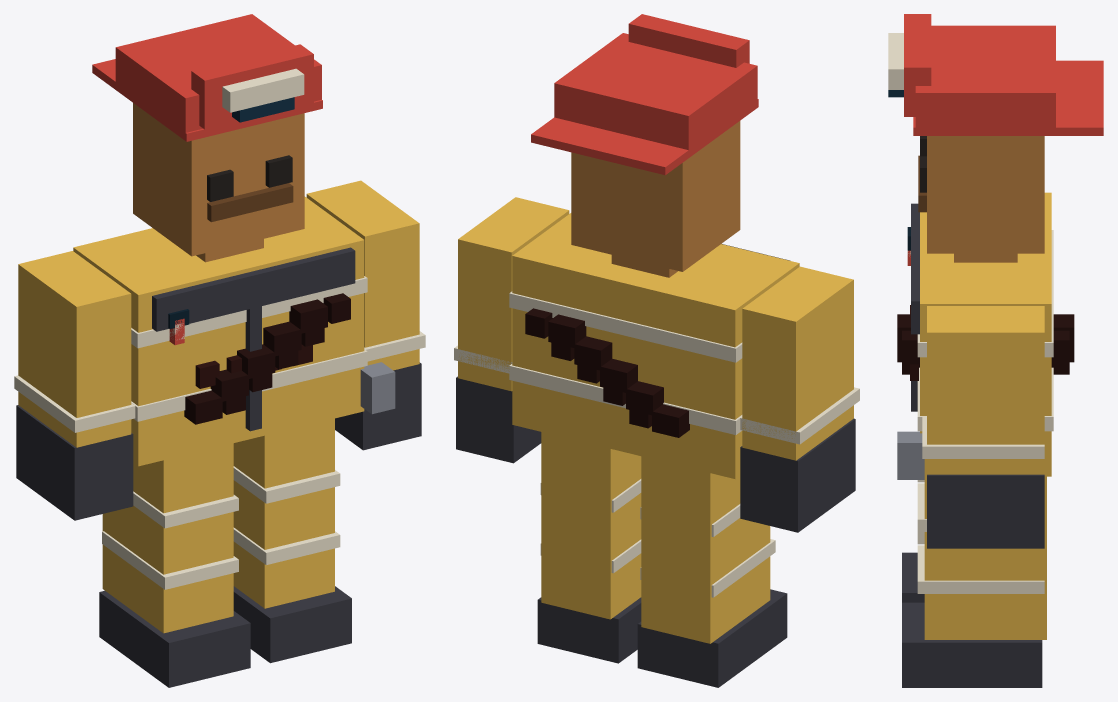
The model's file is archetypes__firefighter.glb.
3 views of the same model, side by side, from view 1: azimuth 30°, elevation 25°; view 2: azimuth 150°, elevation 25°; view 3: azimuth 270°, elevation 25° (orthographic). The views are drawn at different scales.
Visible parts, largest first — view 1: archetypes__firefighter, rig_legL, rig_armL, rig_legR, rig_armR; view 2: archetypes__firefighter, rig_armL, rig_legL, rig_legR, rig_armR; view 3: archetypes__firefighter, rig_armR, rig_legR, rig_legL.
Part boxes in pixels (<box>): archetypes__firefighter: <box>73,14,395,466</box>; rig_legL: <box>99,443,250,687</box>; rig_armL: <box>14,251,135,520</box>; rig_legR: <box>233,418,351,663</box>; rig_armR: <box>306,180,425,450</box>; archetypes__firefighter: <box>509,14,799,478</box>; rig_armL: <box>740,266,859,532</box>; rig_legL: <box>637,456,787,687</box>; rig_legR: <box>537,432,641,663</box>; rig_armR: <box>454,197,569,463</box>; archetypes__firefighter: <box>888,14,1103,479</box>; rig_armR: <box>922,306,1044,548</box>; rig_legR: <box>902,476,1046,687</box>; rig_legL: <box>902,480,924,602</box>.
Size of the model in its own units: 1.8 by 2.93 by 0.95.
